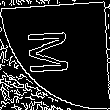M_E: (29, 30, 81, 80)
